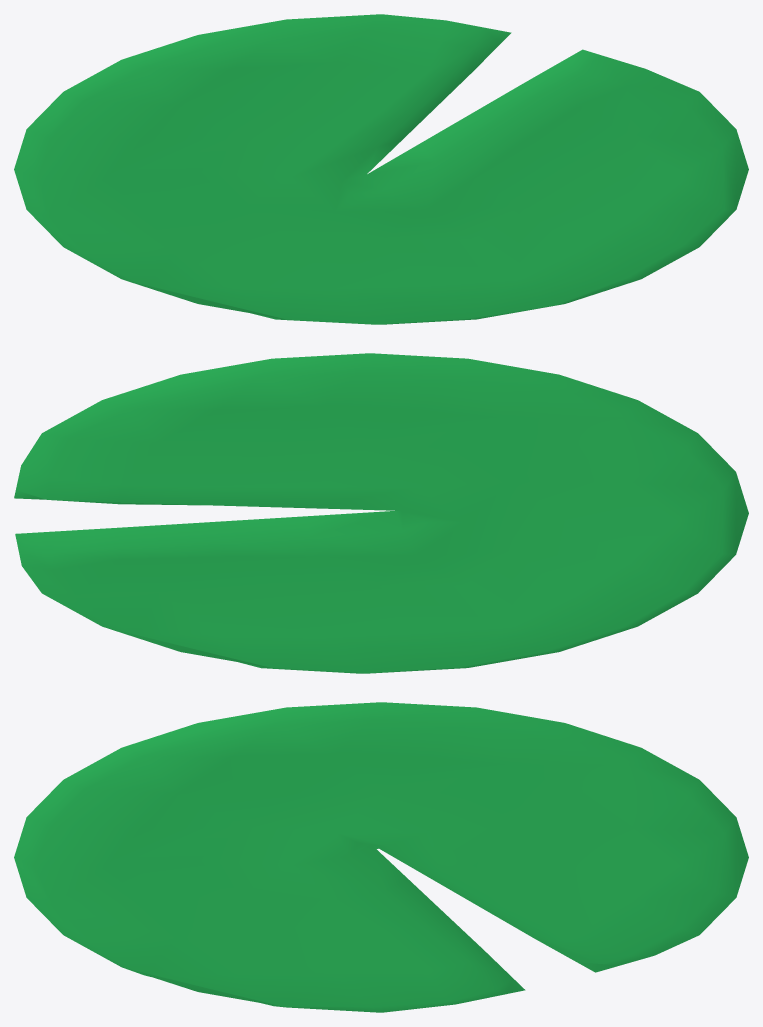
Rendered from LillyPad.fbx.
3 renders of one model, top to bottom at view 1: azimuth 30°, elevation 25°; view 2: azimuth 150°, elevation 25°; view 3: azimuth 270°, elevation 25°, orthographic. The views are drawn at different scales.
Visible parts, largest first — view 1: pDisc1; view 2: pDisc1; view 3: pDisc1.
Part boxes in pixels (<box>): pDisc1: <box>14,14,748,324</box>; pDisc1: <box>14,353,748,673</box>; pDisc1: <box>14,702,748,1012</box>.
Bounding box in the file's own units: 2 × 0.0362 × 2.
